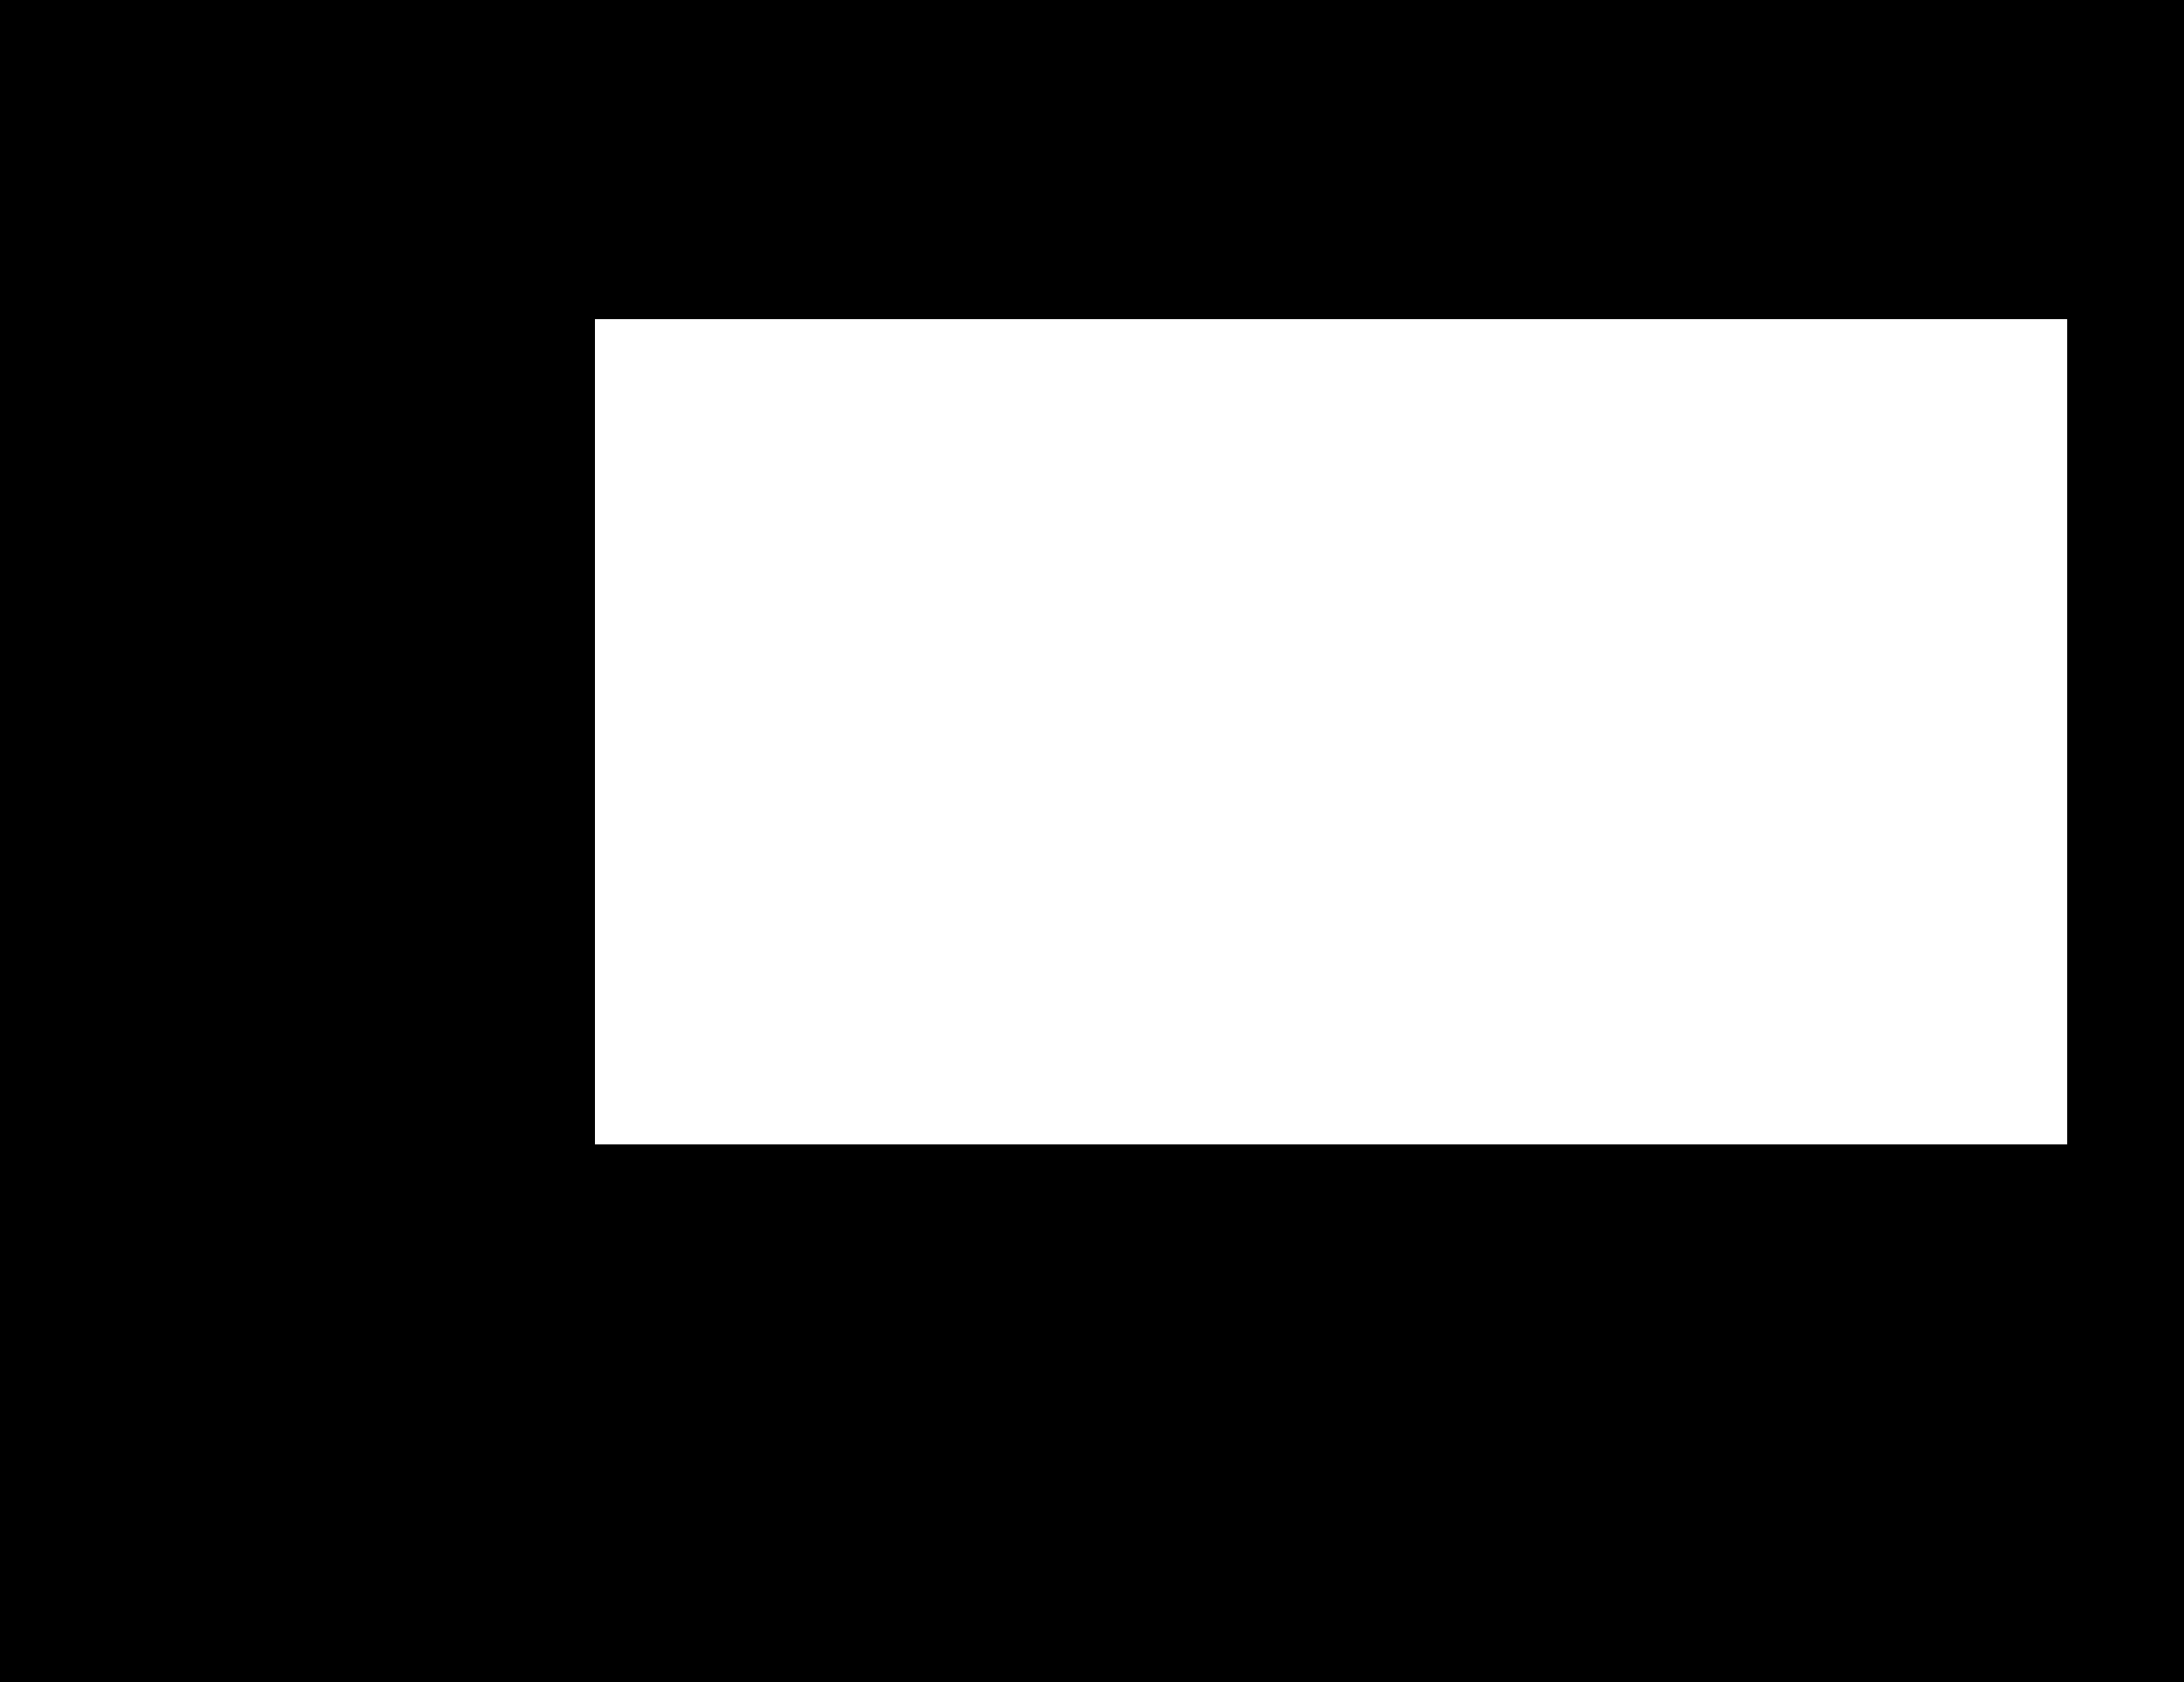table: (595, 320, 2067, 1143)
